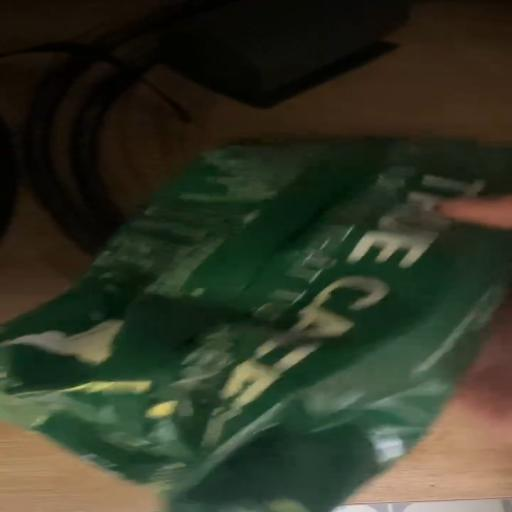cafe_xay: (0, 138, 511, 512)
